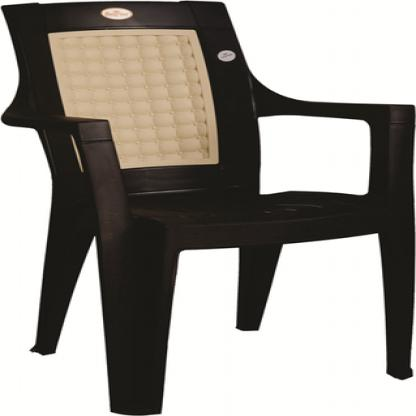chair: (3, 1, 414, 415)
